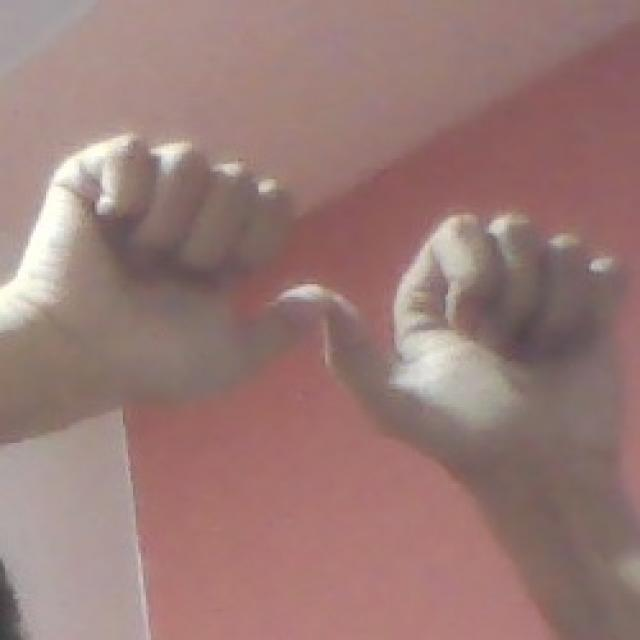Alphabet-A: (37, 134, 625, 488)
